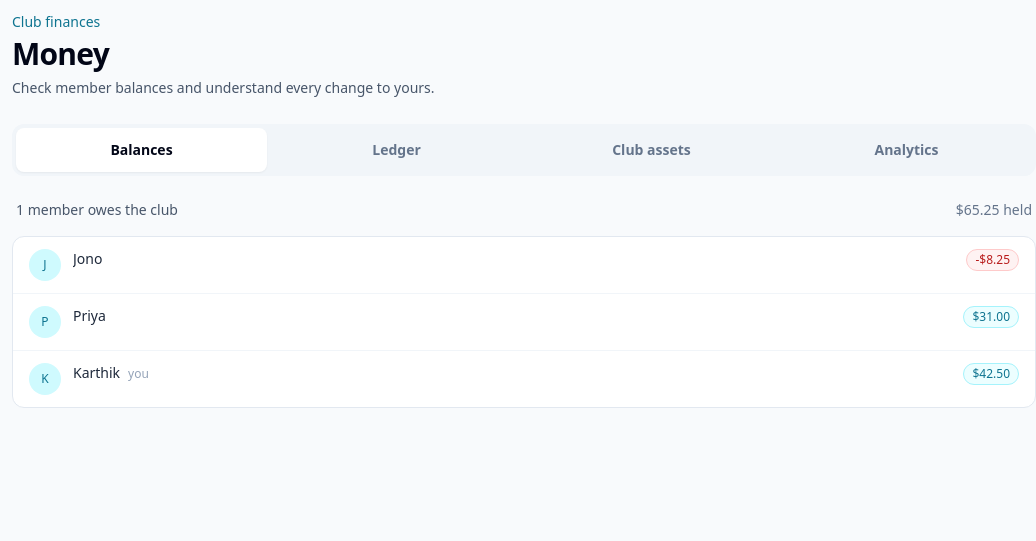
Test: Money › shows the caller’s own history with its running balance
Expected: the tab "Balances" is shown, [16,128,267,172]
Click the tab "Ledger" at (396, 150), box [271,128,522,172]
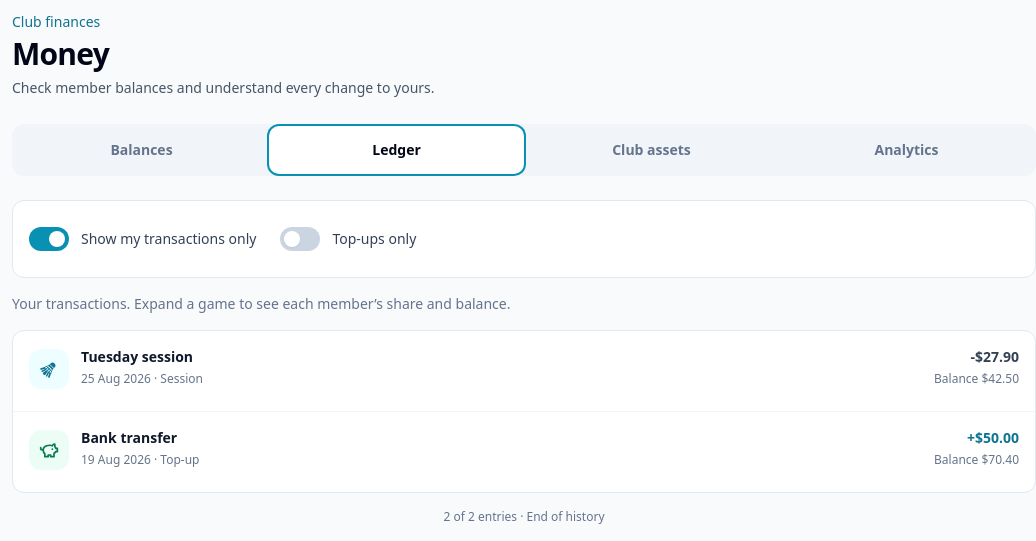
Result: the text "Tuesday session" is shown at [81,347,193,367]
Result: the picture named "Top-up" is shown at [29,430,69,470]
Result: the text "+$50.00" is shown at [967,428,1019,448]
